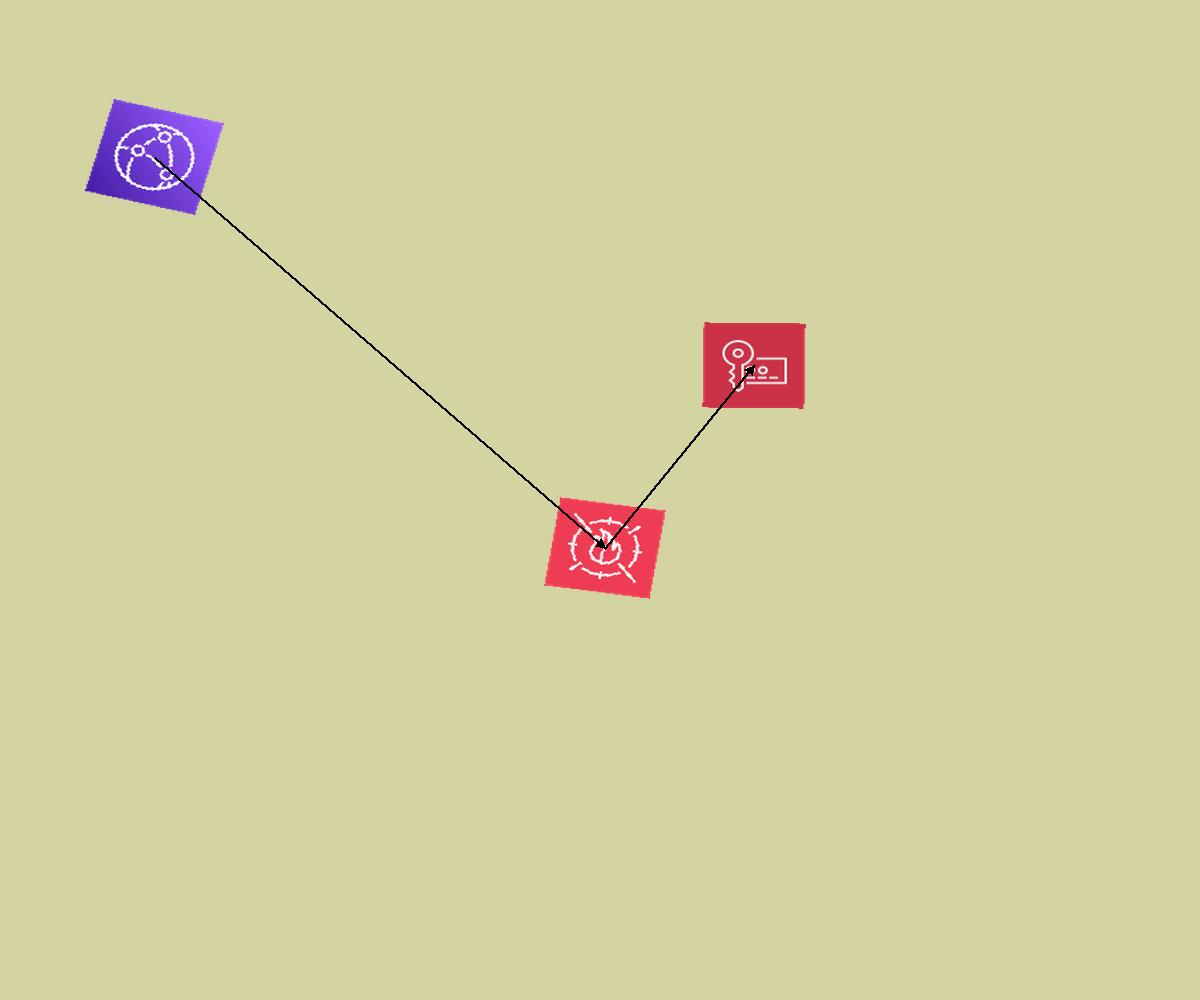AWS-CloudFront: (85, 99, 224, 215)
AWS-Key-Management-Service: (702, 322, 806, 409)
AWS-WAF: (544, 497, 666, 599)
